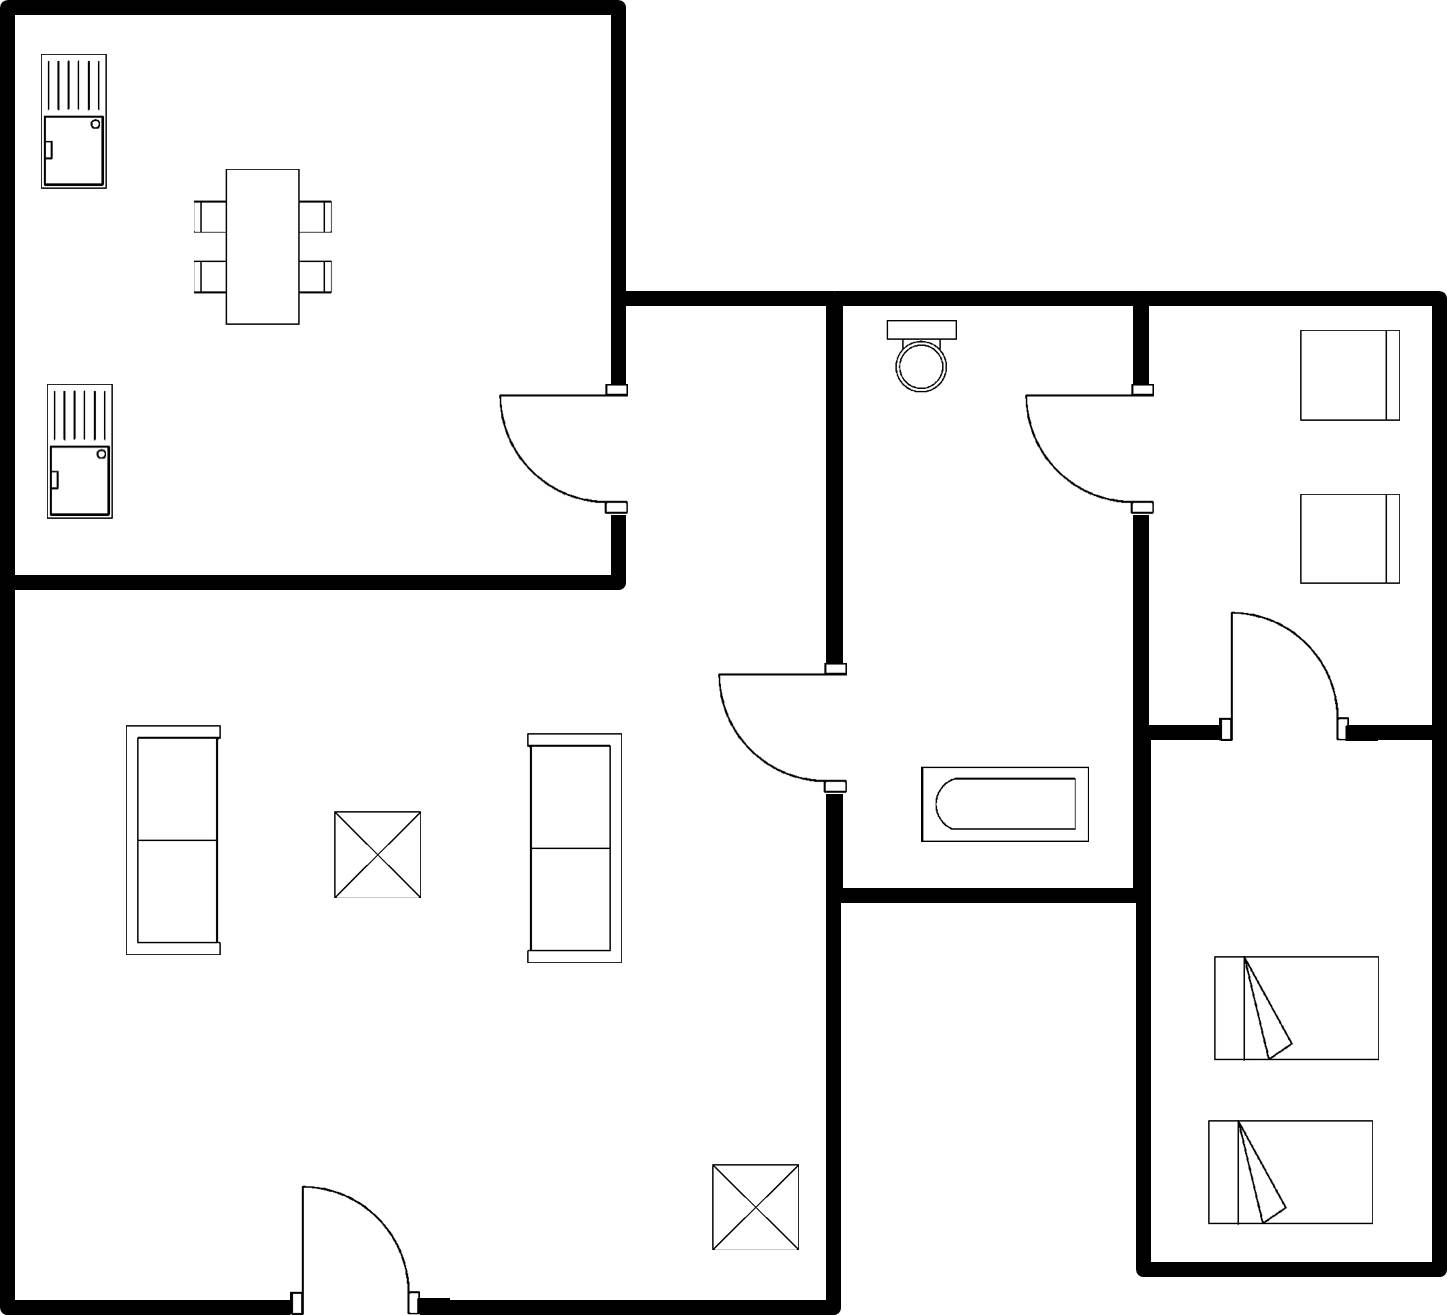bed: (1194, 1112, 1382, 1232), (1204, 949, 1389, 1069)
coffee_table: (696, 1151, 809, 1262), (323, 801, 435, 908)
dining_table: (184, 158, 341, 333)
large_sink: (871, 313, 964, 400)
large_sofa: (113, 712, 235, 966), (514, 723, 632, 972)
sink: (36, 374, 123, 532), (32, 42, 116, 203)
small_sofa: (1286, 318, 1412, 433), (1290, 485, 1407, 595)
tub: (905, 757, 1094, 851)
